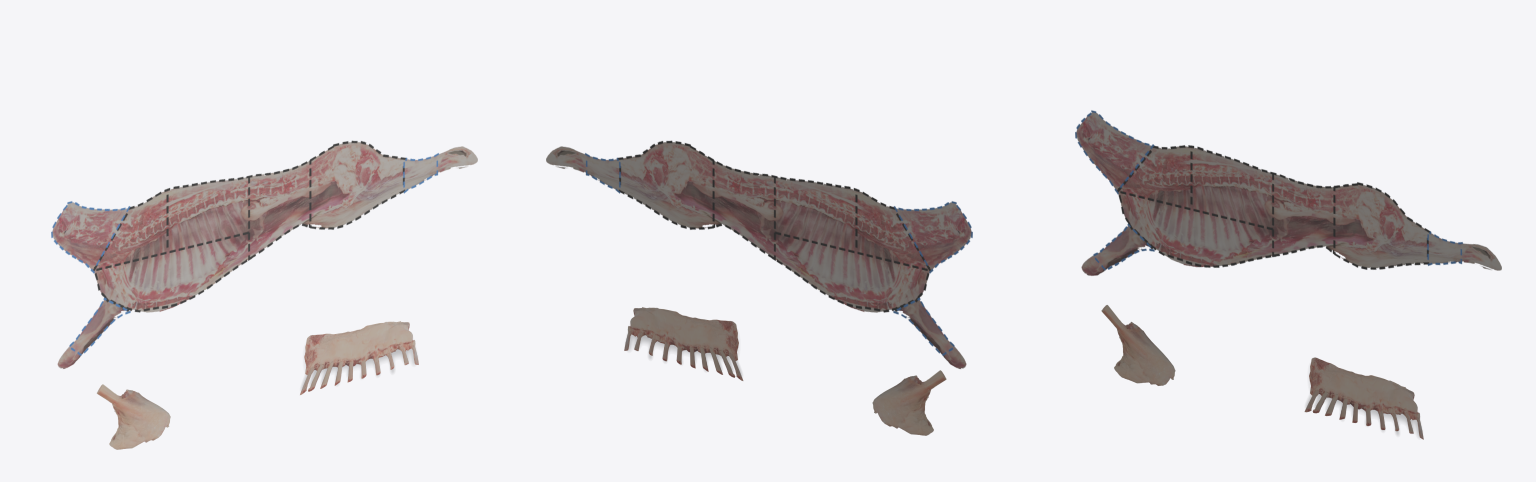
The model's file is Game_Lamb.glb.
The picture shows the model from 3 angles, left to right: view 1: azimuth 30°, elevation 25°; view 2: azimuth 150°, elevation 25°; view 3: azimuth 330°, elevation 25°; orthographic projection.
Visible parts, largest first — view 1: Lamb, FrenchedRibs, Shank; view 2: Lamb, FrenchedRibs, Shank; view 3: Lamb, FrenchedRibs, Shank.
Part boxes in pixels (bbox=[...]): Lamb: bbox=[51, 140, 477, 368]; FrenchedRibs: bbox=[300, 321, 418, 394]; Shank: bbox=[96, 384, 170, 449]; Lamb: bbox=[546, 140, 972, 368]; FrenchedRibs: bbox=[624, 307, 743, 380]; Shank: bbox=[872, 370, 946, 435]; Lamb: bbox=[1075, 110, 1501, 275]; FrenchedRibs: bbox=[1304, 357, 1423, 439]; Shank: bbox=[1101, 305, 1175, 385].
Bounding box in the file's own units: 4.34 × 2.96 × 0.1496.
Materials: 3 (3 with a texture image).
